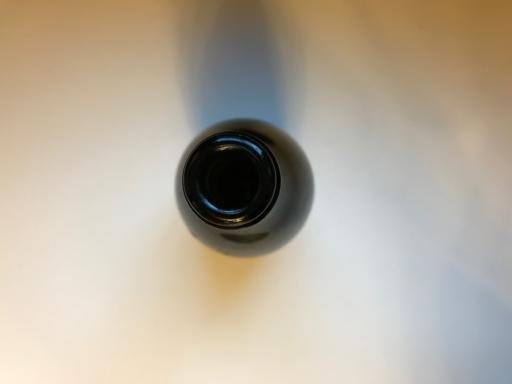botolkaca: (174, 118, 316, 260)
